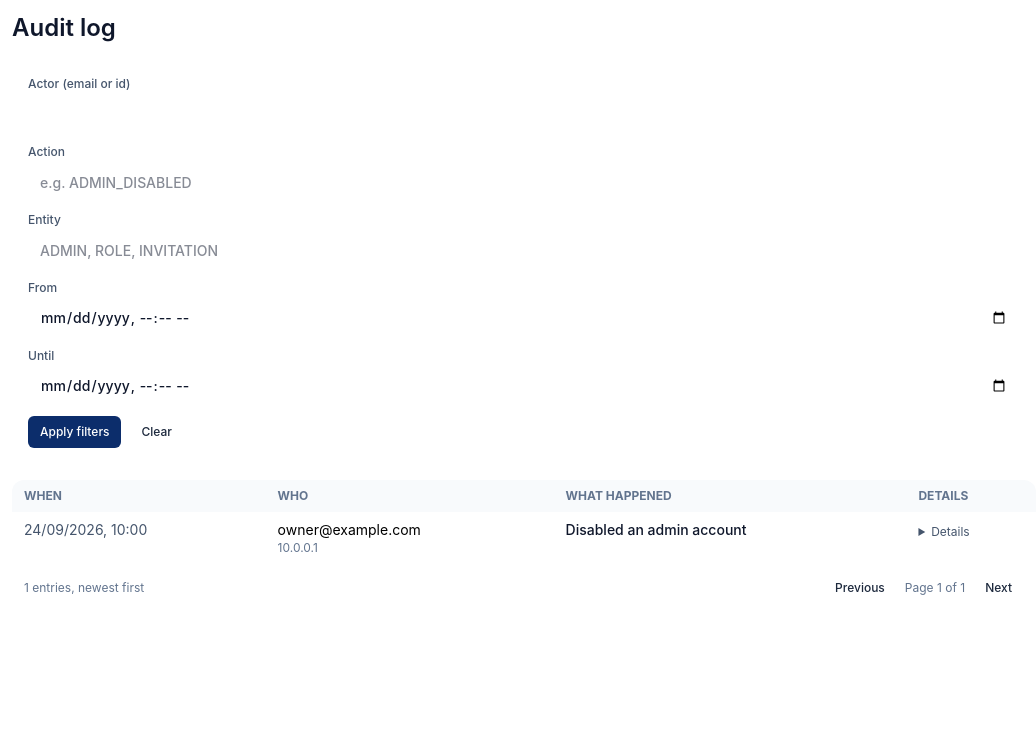
Test: AuditPage › shows entries newest first with the before and after values
Expected: the text "Disabled an admin account" is shown, top-left (566, 521), bottom-right (746, 538)
Expected: the text "owner@example.com" is shown, top-left (278, 521), bottom-right (421, 538)
Click the heading "Details".
click(950, 532)  # box top-left (931, 524), bottom-right (970, 539)
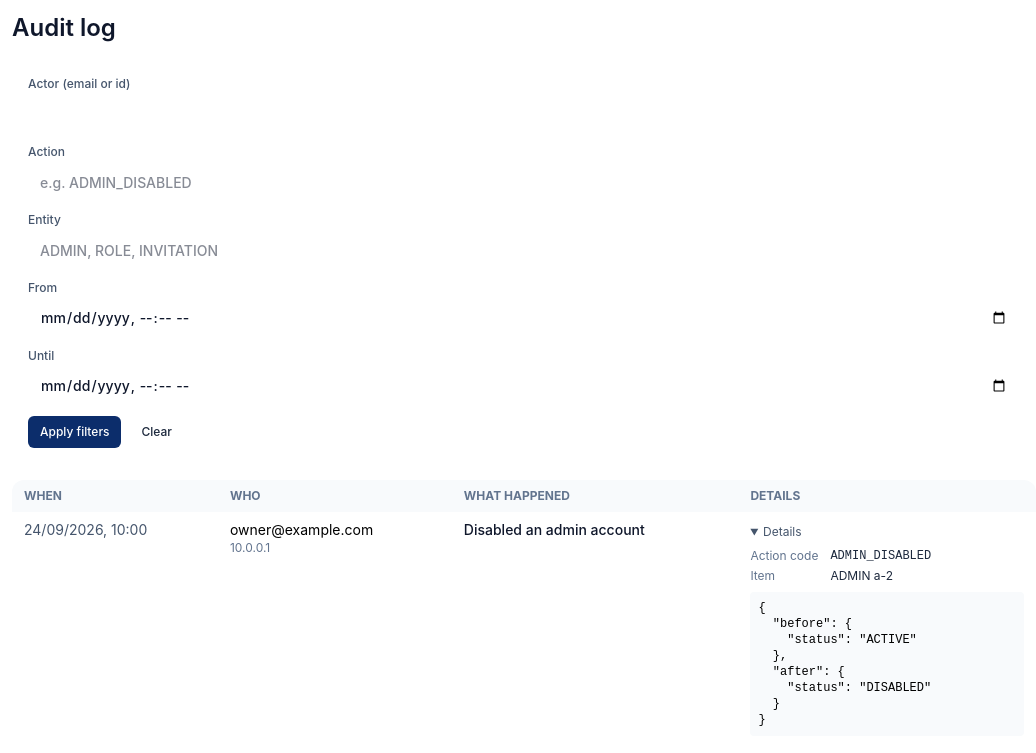
Expected: the text "\"status\": \"DISABLED\"" is shown, top-left (758, 601), bottom-right (931, 727)
